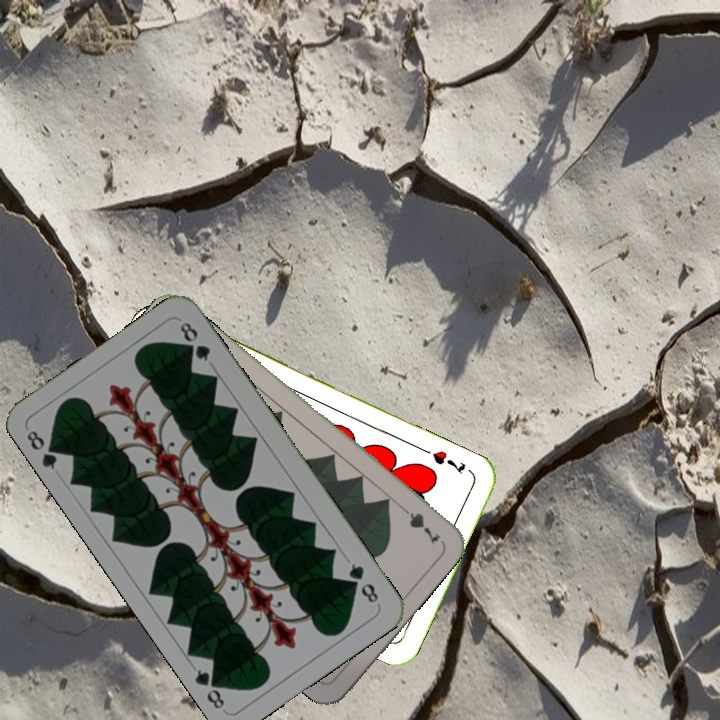G7: (393, 500, 444, 547)
G8: (22, 426, 65, 473), (344, 559, 381, 606)
H7: (428, 446, 468, 477)
